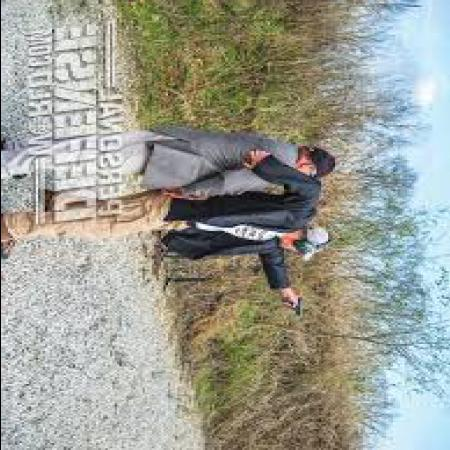Pistol: (283, 302, 306, 323)
